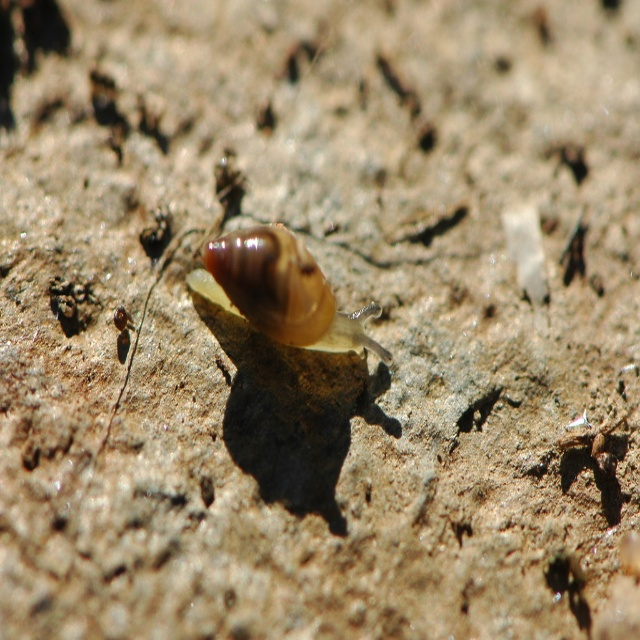Snail: (186, 226, 394, 369)
